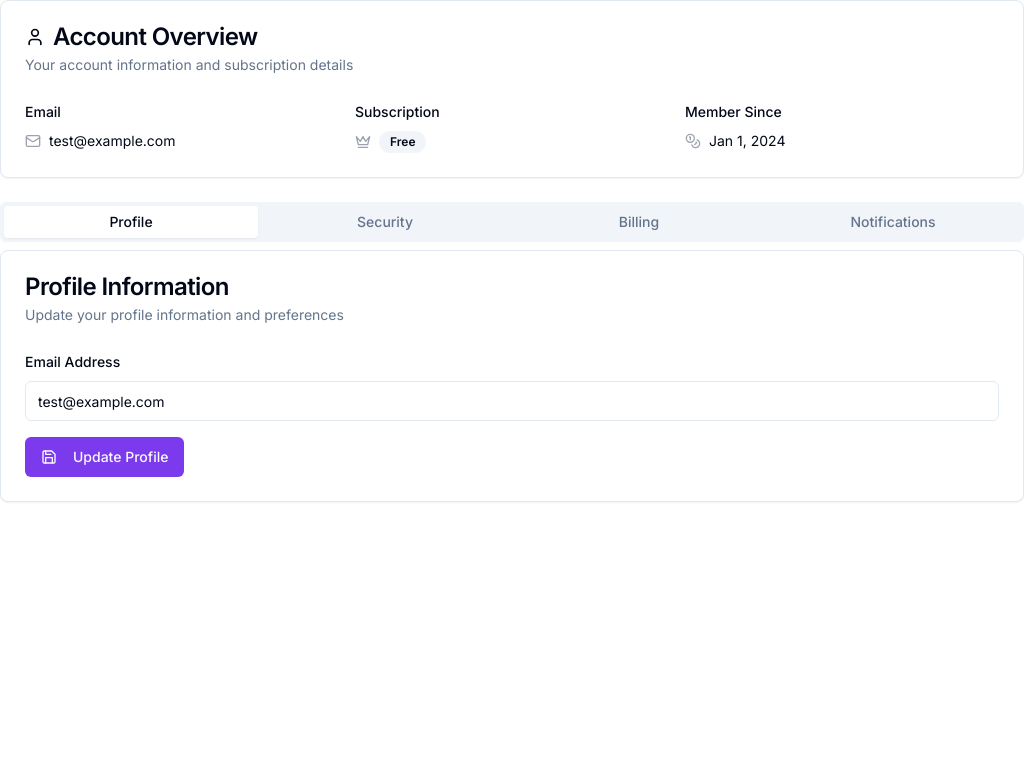
Test: SettingsDisplay › should handle profile update successfully
Replace the text in the field labelled "Email Address" with "newemail@example.com" at [512, 401], box [25, 381, 999, 421]
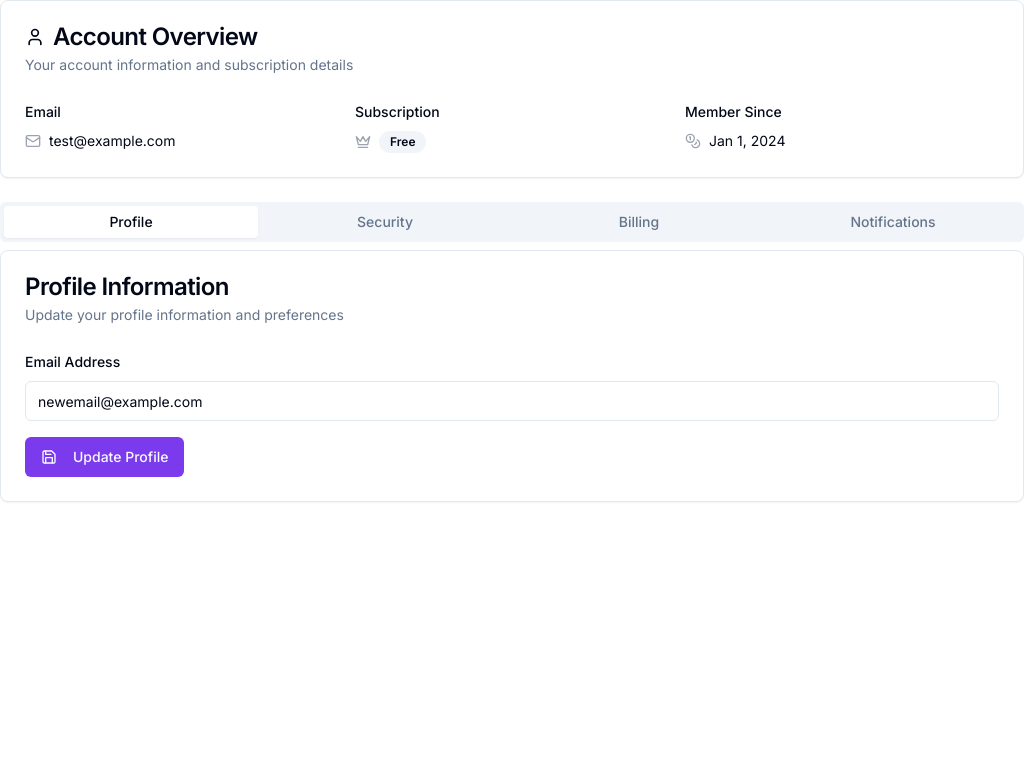
Click the button "Update Profile" at [105, 457], box [25, 437, 184, 477]
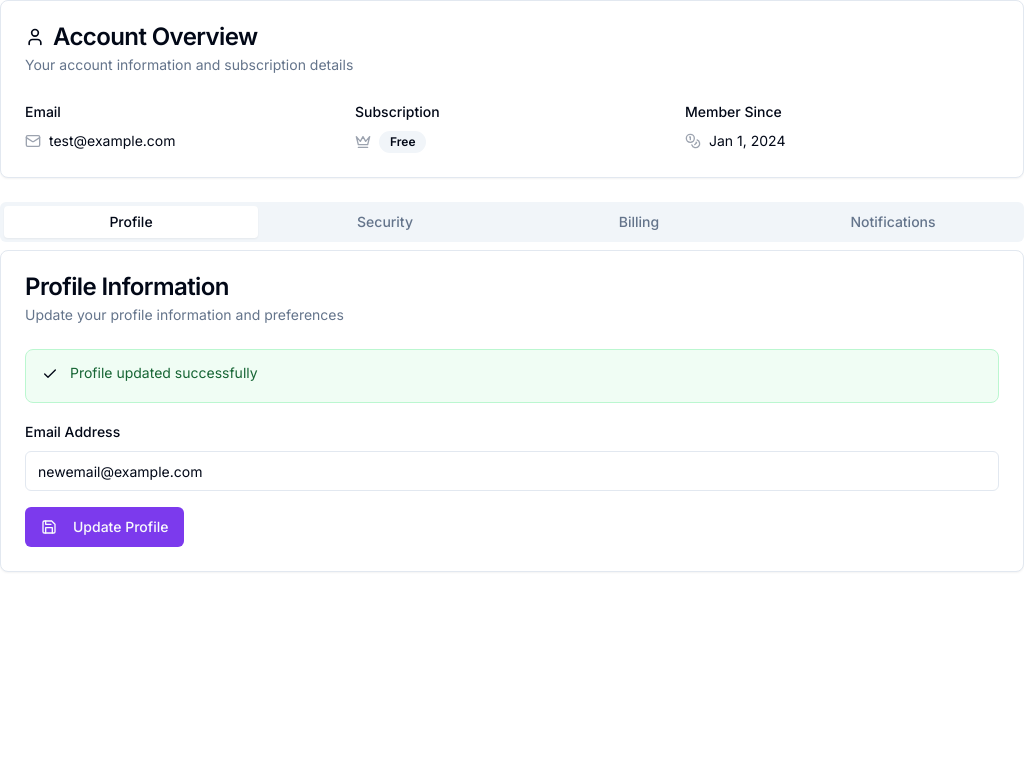
Check: the text "Profile updated successfully" is shown, box [70, 364, 258, 381]
